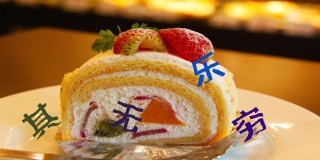乐: (191, 51, 226, 87)
其: (22, 102, 62, 140)
无: (113, 101, 144, 132)
穷: (231, 106, 267, 142)
